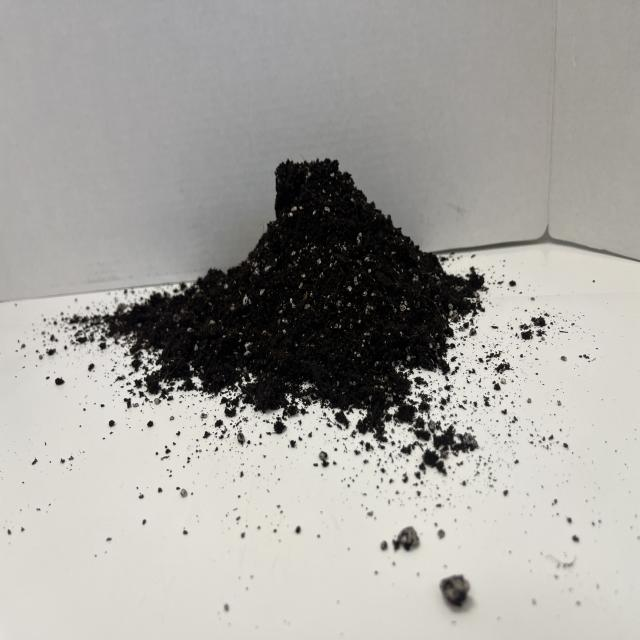soil: (91, 154, 486, 428)
